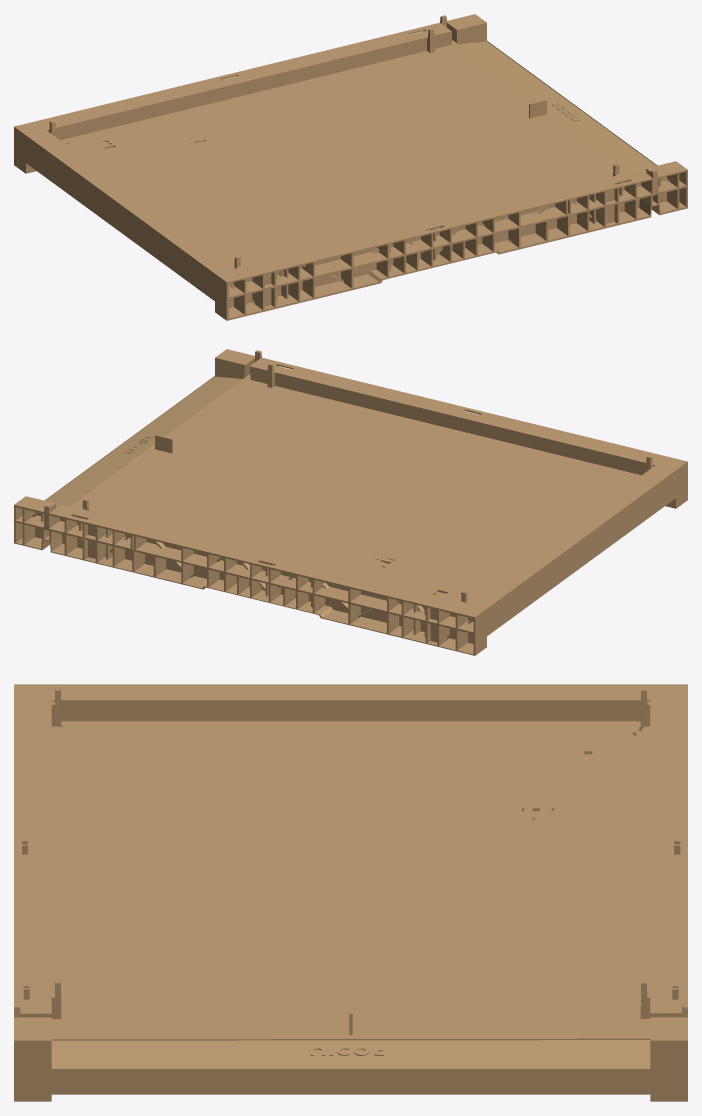
File: socle_de_ruche.fbx
3 views of the same model, one above another, from view 1: azimuth 30°, elevation 25°; view 2: azimuth 150°, elevation 25°; view 3: azimuth 270°, elevation 25° (orthographic). The views are drawn at different scales.
Visible parts, largest first — view 1: Cube; view 2: Cube; view 3: Cube.
Part boxes in pixels (x1,y1,x2,y2): Cube: (14,14,687,320); Cube: (14,349,687,655); Cube: (14,684,687,1101).
Size of the model in its own units: 53.8 by 5.3 by 43.01.
